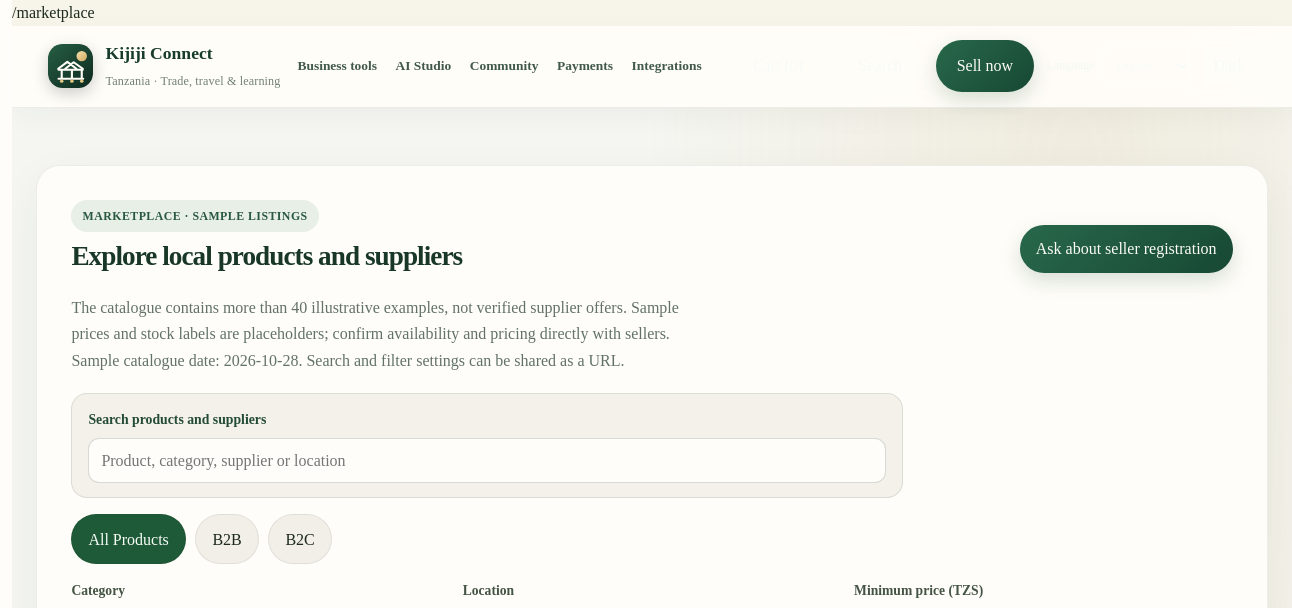
Test: routed application shell › filters the sample catalogue and keeps search state in the URL
Type "avocado" into the search field with placeholder "Product, category, supplier or location".
click(487, 460); type("avocado")  # box [88,438,886,483]
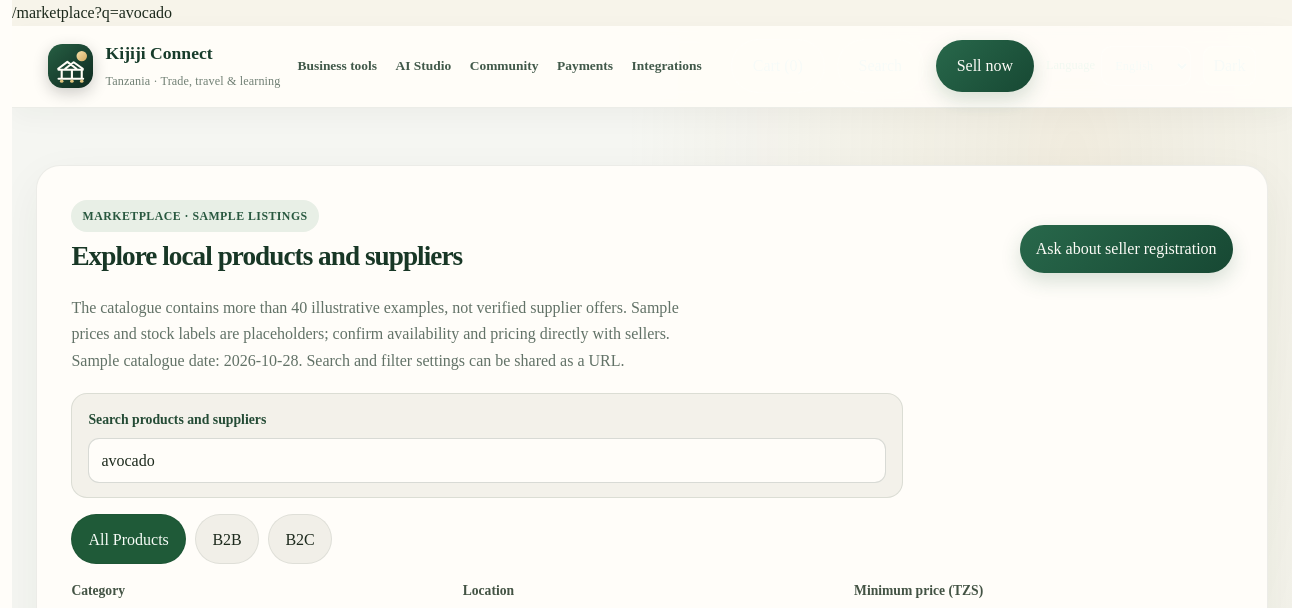
Expected: the text with test id "location-search" reads "/marketplace?q=avocado", [12,4,172,21]
